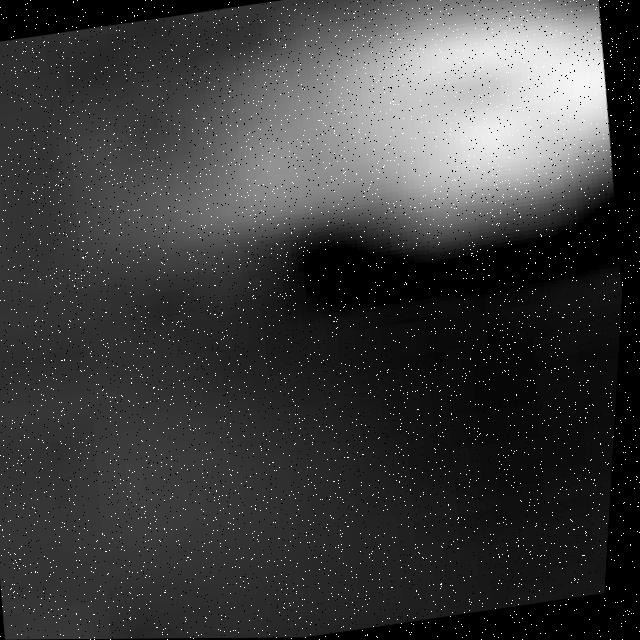person: (138, 1, 631, 288)
